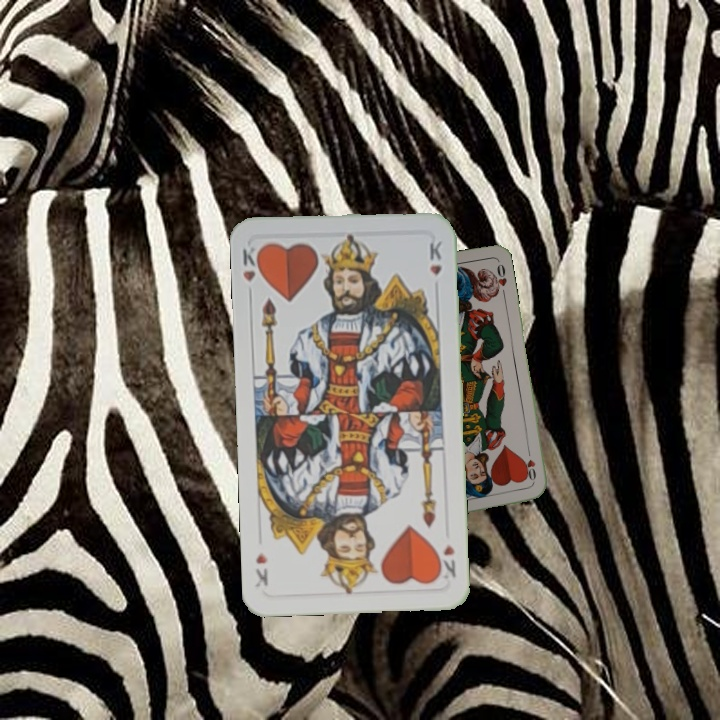HK: (239, 241, 265, 301), (433, 541, 458, 581)
HO: (522, 445, 539, 485)
